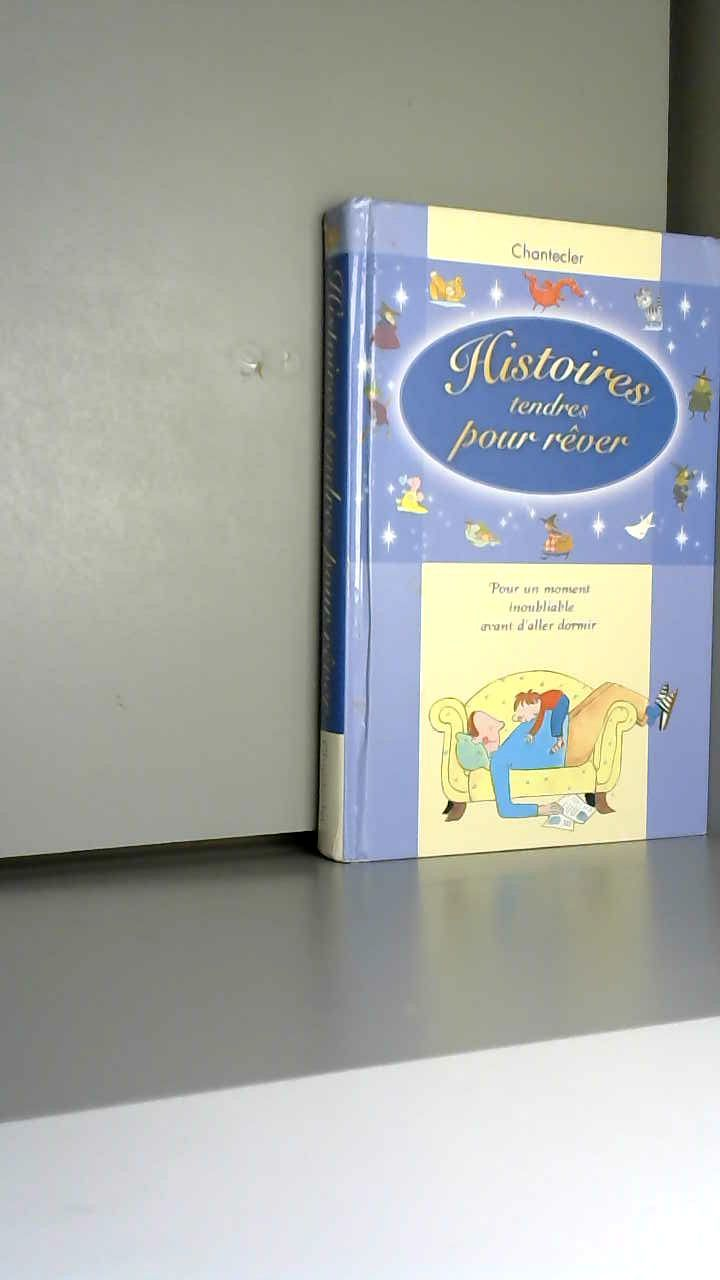book: (290, 170, 720, 931)
